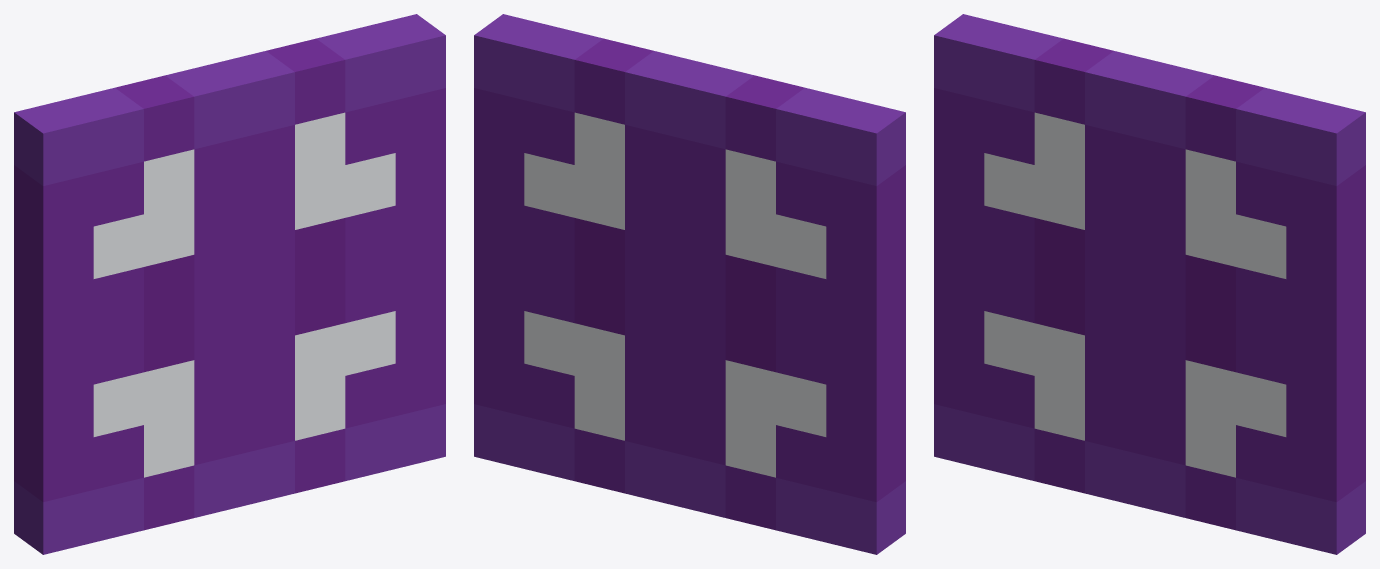
The model's file is Purple Seeking Paintball Explosive Item.glb.
3 renders of one model, left to right at view 1: azimuth 30°, elevation 25°; view 2: azimuth 150°, elevation 25°; view 3: azimuth 330°, elevation 25°, orthographic.
Visible parts, largest first — view 1: generated; view 2: generated; view 3: generated.
Boxes of the visible parts, box(x1,y1,x2,y2) form: generated: box(14, 14, 445, 554); generated: box(474, 14, 905, 554); generated: box(934, 14, 1365, 554).
Bounding box in the file's own units: 8 × 8 × 1.
Materials: 1 (1 with a texture image).
